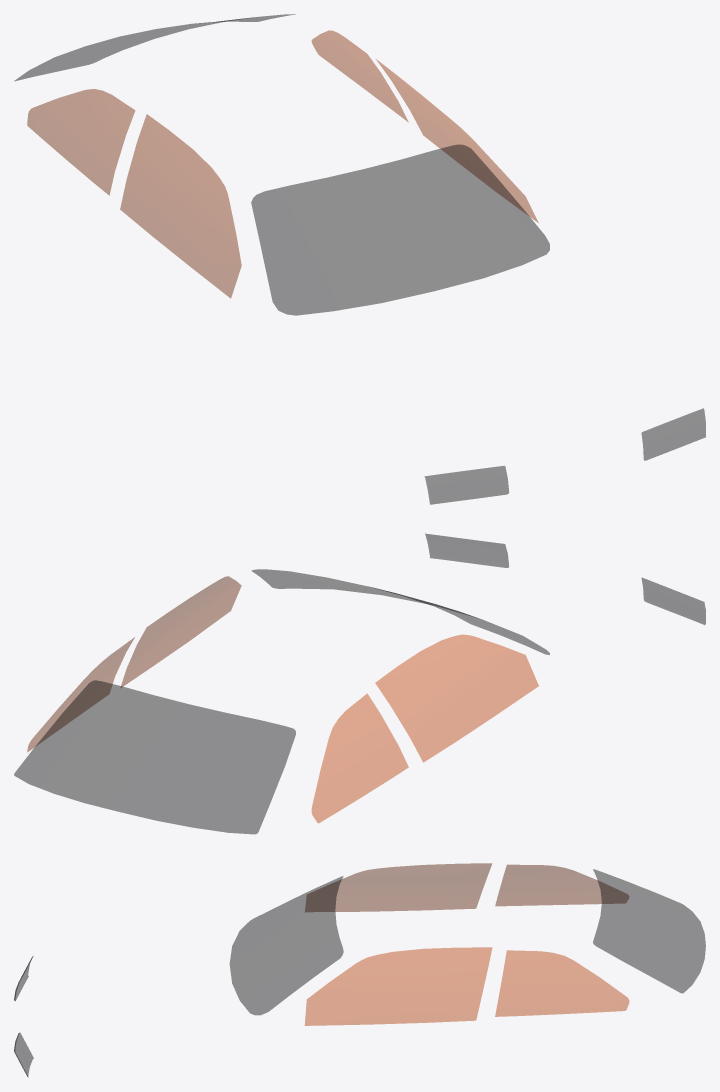
File: BMW_E36_Chassis_Glass.fbx
The picture shows the model from 3 angles, top to bottom: view 1: azimuth 30°, elevation 25°; view 2: azimuth 150°, elevation 25°; view 3: azimuth 270°, elevation 25°; orthographic projection. The views are drawn at different scales.
Parts seen in each view (by area): view 1: BMW_E36_Chassis_Glass; view 2: BMW_E36_Chassis_Glass; view 3: BMW_E36_Chassis_Glass.
Boxes of the visible parts, box(x1,y1,x2,y2) form: BMW_E36_Chassis_Glass: box(14, 14, 705, 504); BMW_E36_Chassis_Glass: box(14, 533, 705, 834); BMW_E36_Chassis_Glass: box(14, 863, 705, 1077).
Size of the model in its own units: 1.47 by 0.7511 by 3.78.
